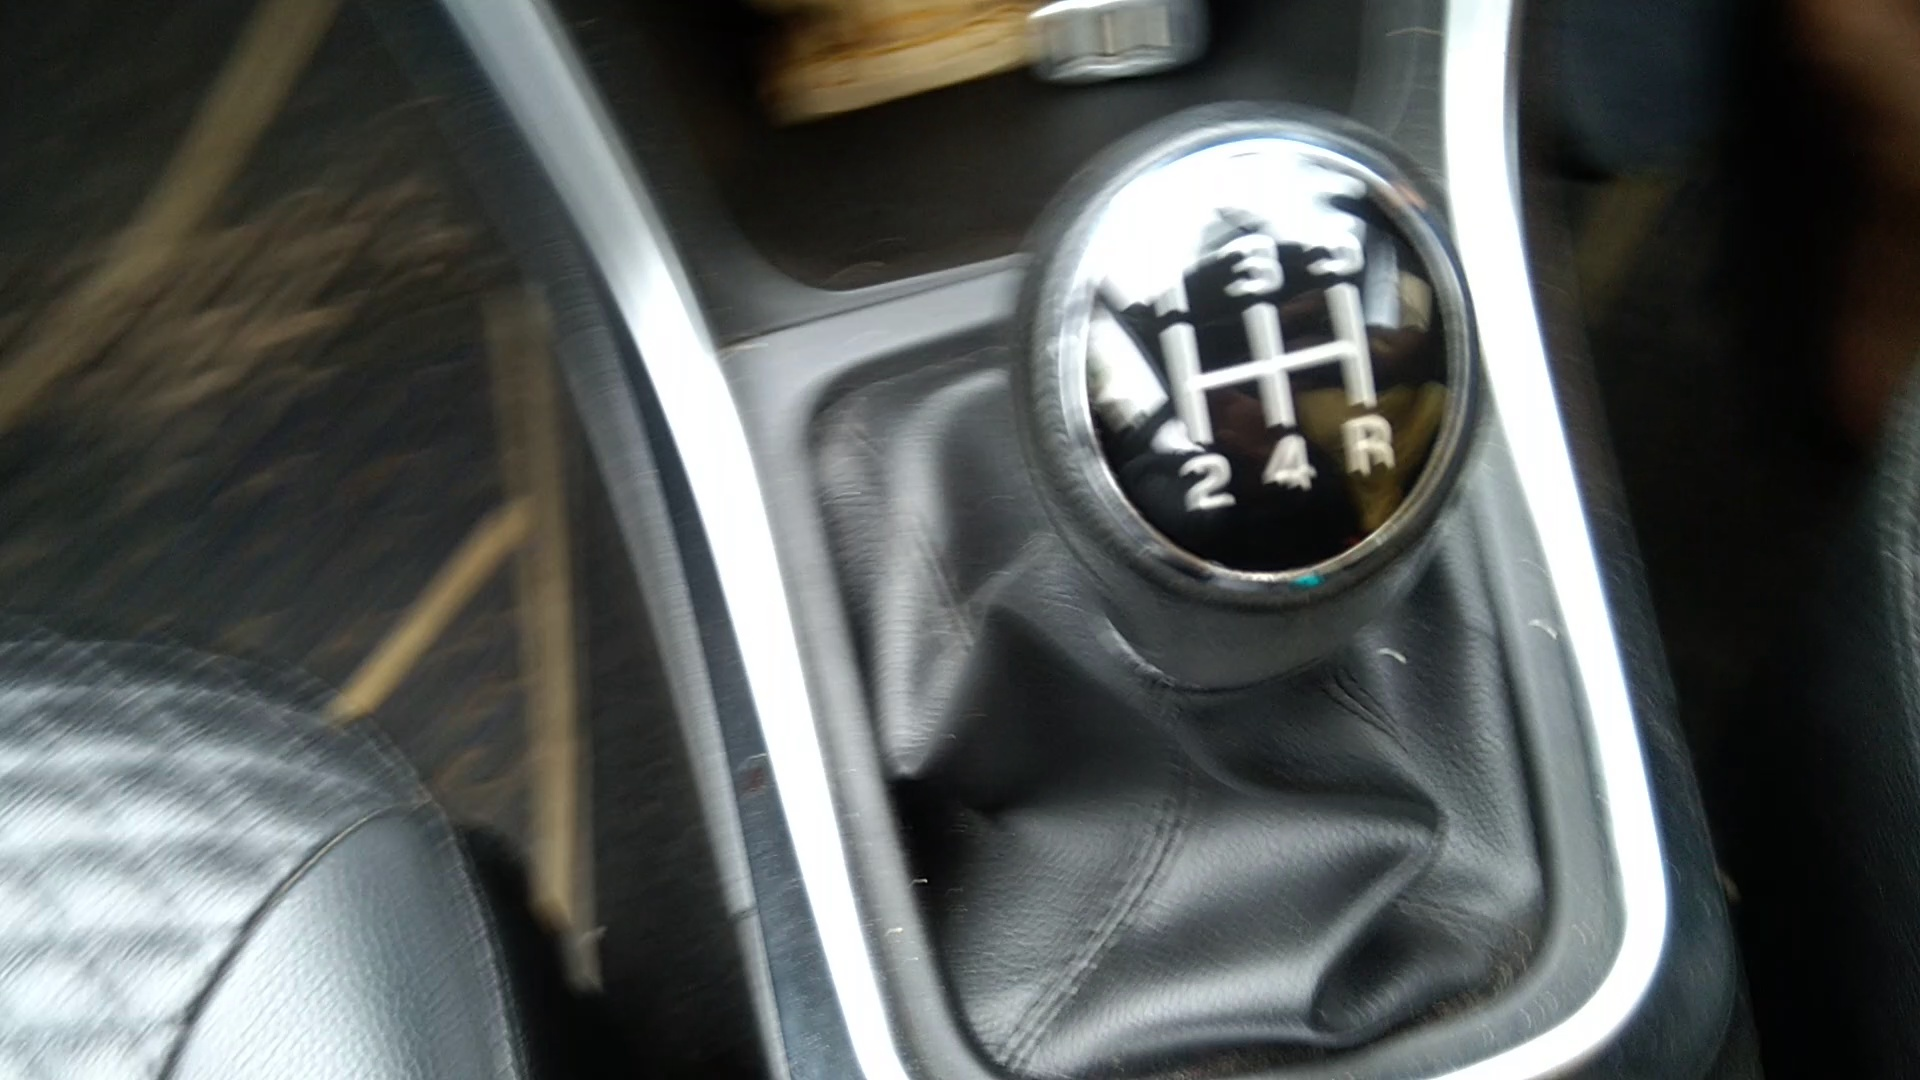manual_gear: (996, 95, 1495, 735)
